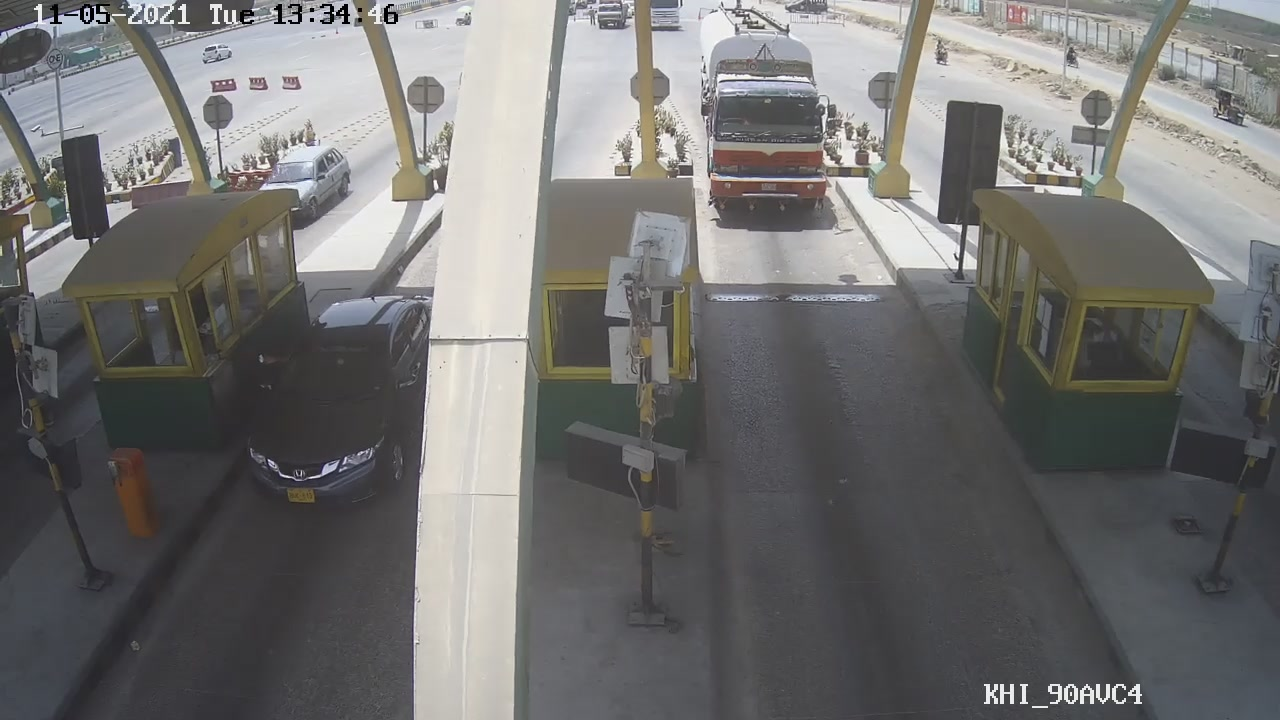F6: (692, 6, 848, 230)
